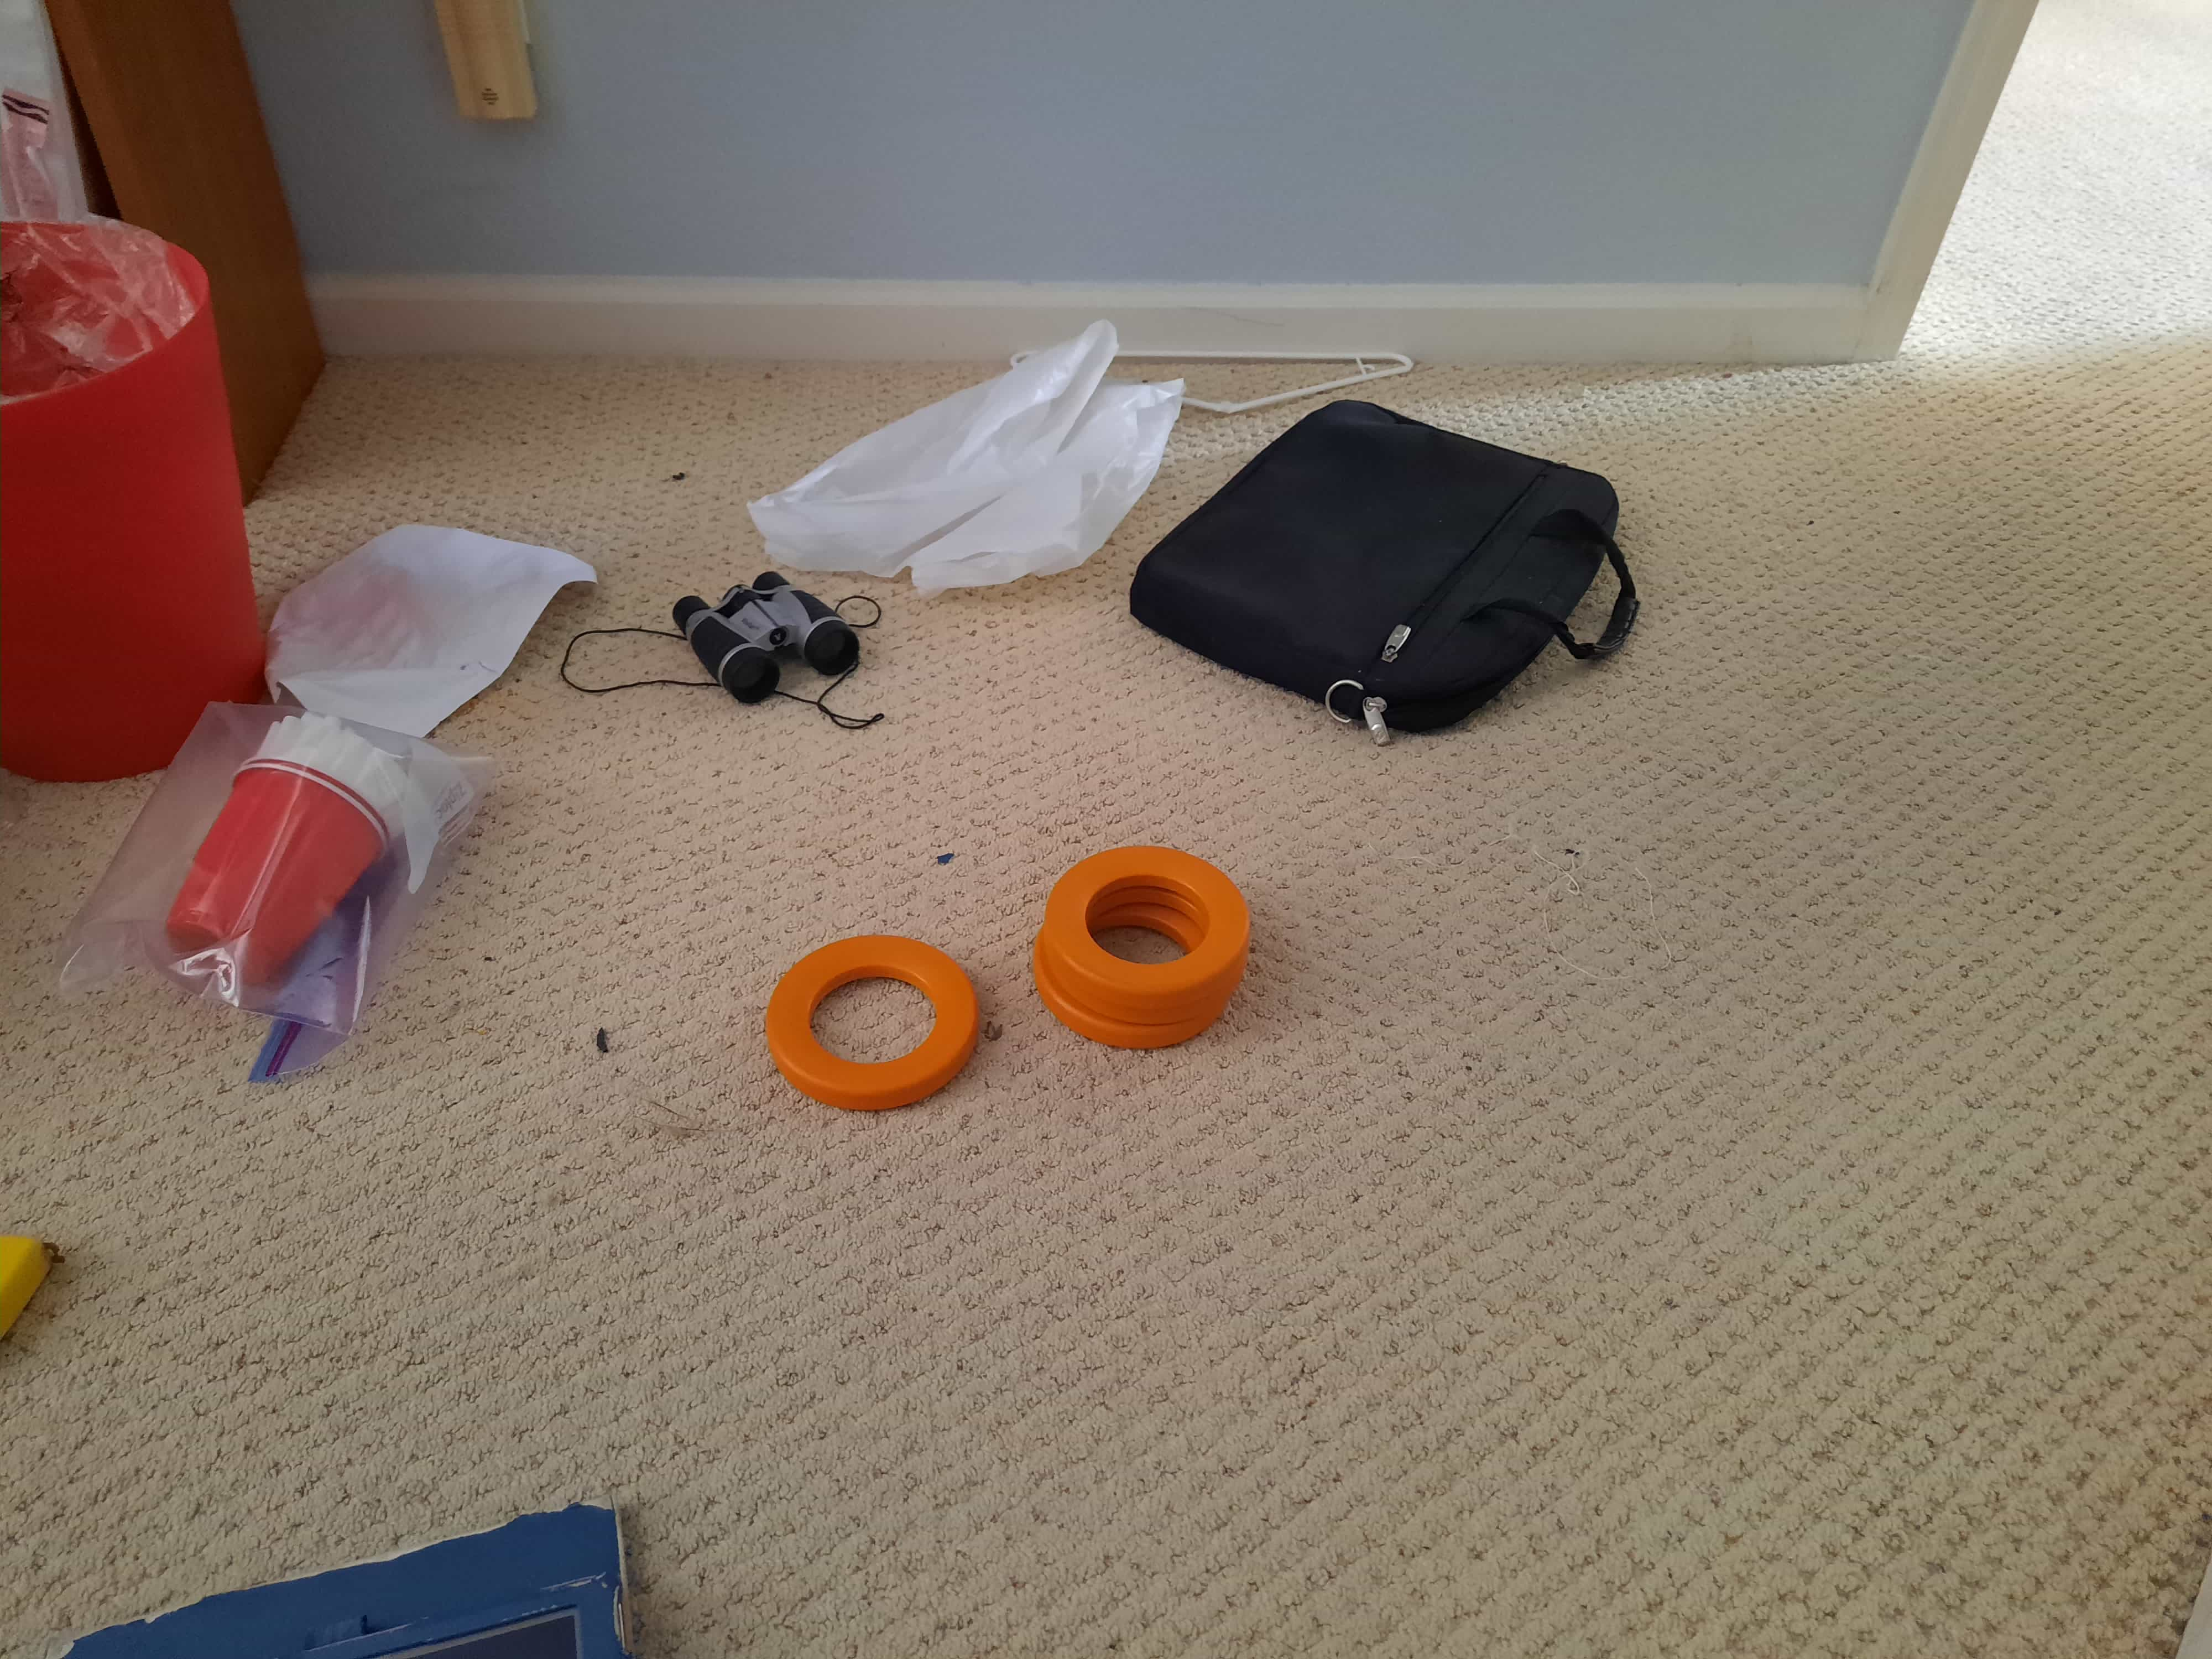FourStack: (1042, 843, 1247, 1049)
OneStack: (763, 934, 981, 1105)
